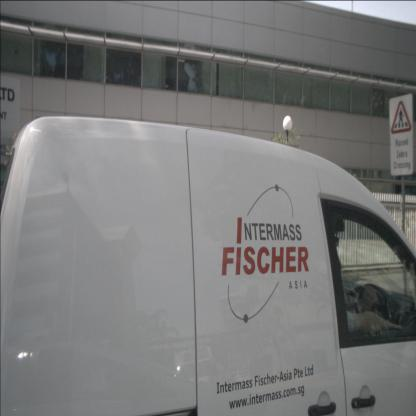vehicle-car: (0, 114, 416, 416)
